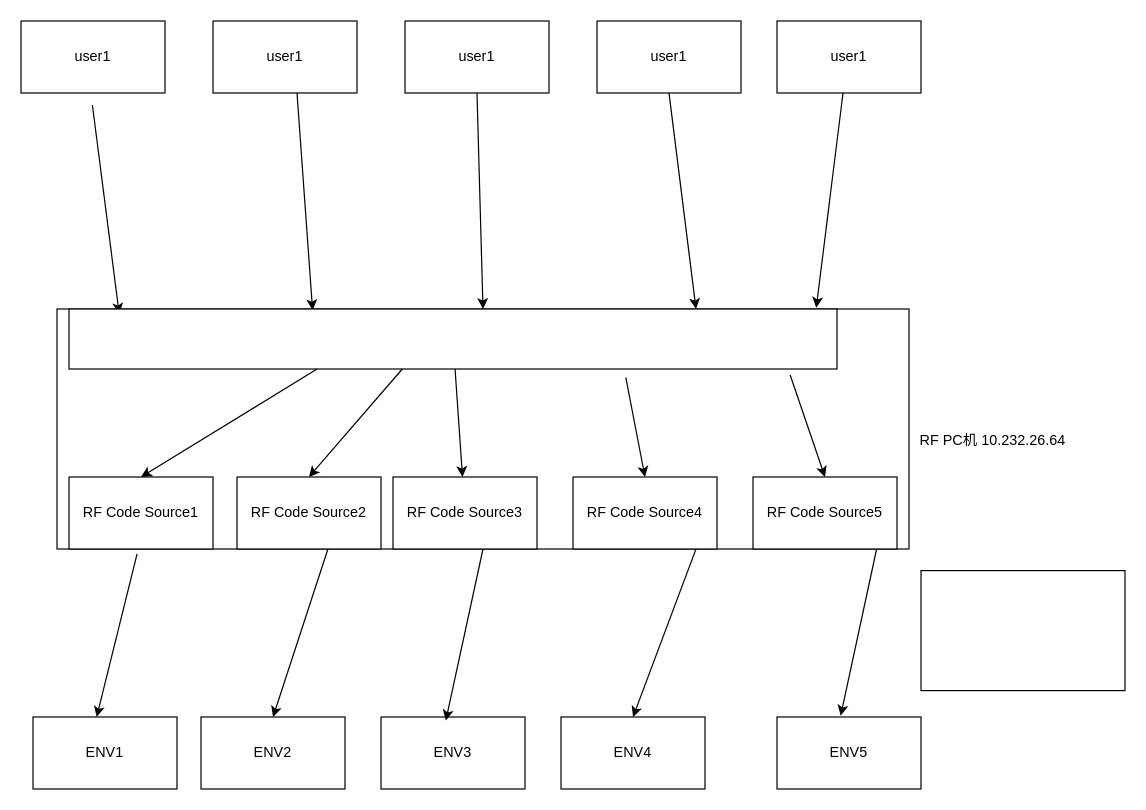
Some shapes in this 1146 by 810 pixel diagram are drawn without their labels. Here are the shapes that lost their labels. From the top down, the centre of each, then its label:
(x=452, y=338): flask Server
(x=1022, y=630): 1、版本升级 2、推荐UME网管 3、创建网元 4、开站 5、配置NSA小区 6、配置切换 ........
